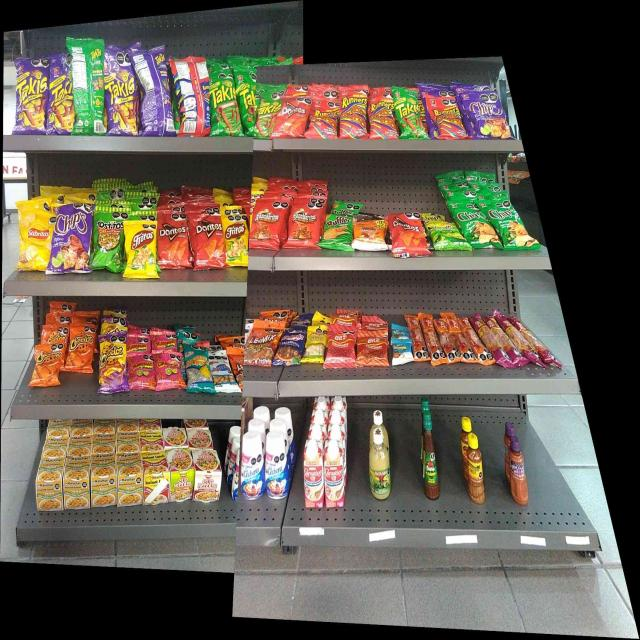bitzAlmendras: (392, 338, 411, 364)
bitzEnchilado90: (327, 325, 354, 369), (357, 328, 387, 364)
bitzEnchilado95: (412, 315, 470, 363)
bitzHabanero: (490, 314, 549, 368)
bokadosCacahuates: (280, 326, 301, 366)
botaneraChilito: (466, 434, 485, 503)
cheetosFlaminHot: (100, 336, 125, 394)
cheetosOriginal: (70, 327, 92, 372), (34, 346, 59, 384)
chipsFuego: (54, 208, 86, 274), (466, 93, 502, 139)
chipsJalapeno: (494, 201, 526, 251), (461, 204, 490, 250)
chipsPapatinas: (427, 219, 457, 253)
churrumais: (154, 350, 182, 387), (129, 354, 153, 388)
delPrimoSalsa: (370, 430, 390, 500)
doritosNacho: (190, 203, 220, 270), (159, 210, 186, 269), (389, 215, 421, 258), (278, 95, 304, 138)
fritosLimon: (123, 221, 156, 277), (223, 206, 248, 266)
hotNutsOriginal: (354, 214, 384, 251)
leoCacahuates: (212, 350, 227, 393)
leoMix: (247, 320, 273, 368)
maruchanPollo: (36, 456, 62, 510), (65, 455, 91, 509), (118, 452, 142, 506), (92, 455, 116, 504)
maruchanRes: (144, 451, 166, 503)
nestleCarnation: (304, 438, 325, 510), (326, 439, 344, 510)
nestleLechera: (242, 433, 264, 499), (266, 432, 288, 498)
nissinCamaron: (169, 448, 191, 500)
nissinRes: (193, 447, 220, 501)
productoAtras: (170, 60, 208, 136), (73, 39, 103, 135), (138, 50, 166, 134)
rancheritos: (290, 198, 318, 251), (254, 197, 280, 250)
rufflesQueso: (325, 213, 350, 253)
runners: (341, 86, 366, 138), (369, 95, 394, 139), (436, 98, 459, 140), (312, 101, 338, 138)
sabritasOriginal: (20, 209, 48, 273)
salsaBufalo: (423, 413, 439, 499)
semillasCalabaza: (306, 326, 324, 363)
semillasGirasol: (185, 342, 210, 392)
tajinDulce: (508, 438, 528, 506)
takisFuego: (104, 50, 136, 137), (15, 58, 48, 134), (49, 56, 71, 134)
takisOriginal: (211, 81, 235, 137), (238, 66, 255, 134), (396, 86, 418, 138), (258, 94, 272, 138)
tostitos: (95, 206, 121, 272)
